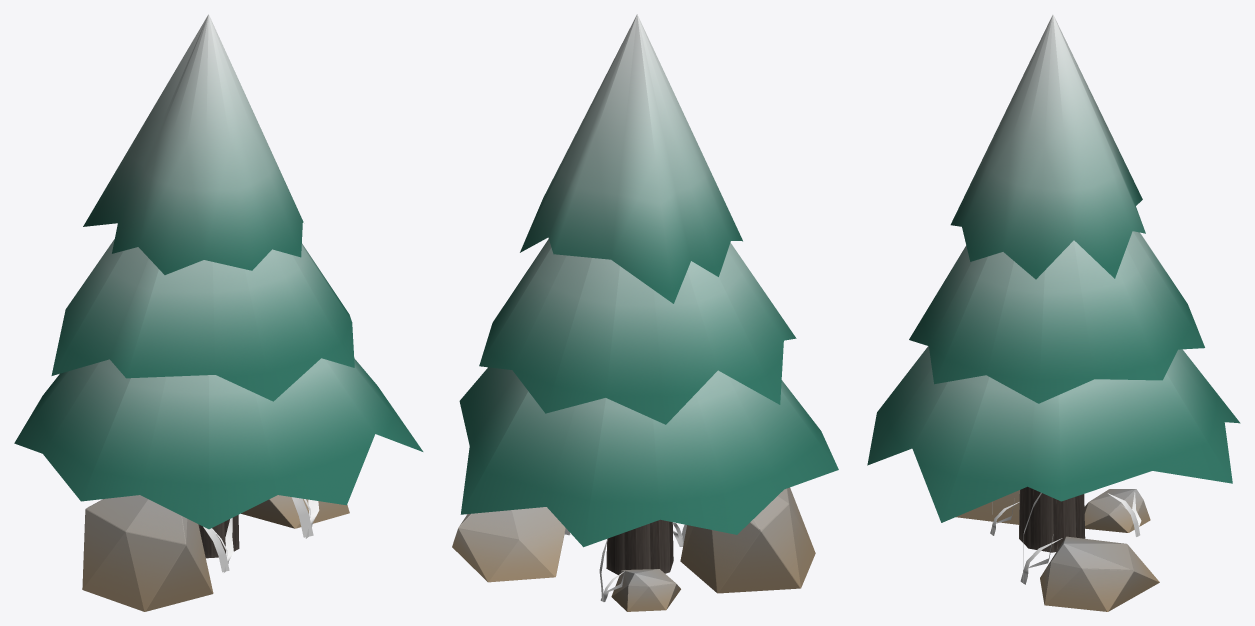
Rendered from Snow pine collection 2.fbx.
The picture shows the model from 3 angles, left to right: view 1: azimuth 30°, elevation 25°; view 2: azimuth 150°, elevation 25°; view 3: azimuth 270°, elevation 25°; orthographic projection. The views are drawn at different scales.
Visible parts, largest first — view 1: Snow Pine tree (textured)001; view 2: Snow Pine tree (textured)001; view 3: Snow Pine tree (textured)001.
Boxes of the visible parts, left/top/right/bottom form: Snow Pine tree (textured)001: left=14, top=14, right=423, bottom=611; Snow Pine tree (textured)001: left=452, top=14, right=838, bottom=611; Snow Pine tree (textured)001: left=867, top=14, right=1240, bottom=611.
Bounding box in the file's own units: 26.57 × 41.27 × 26.42.
